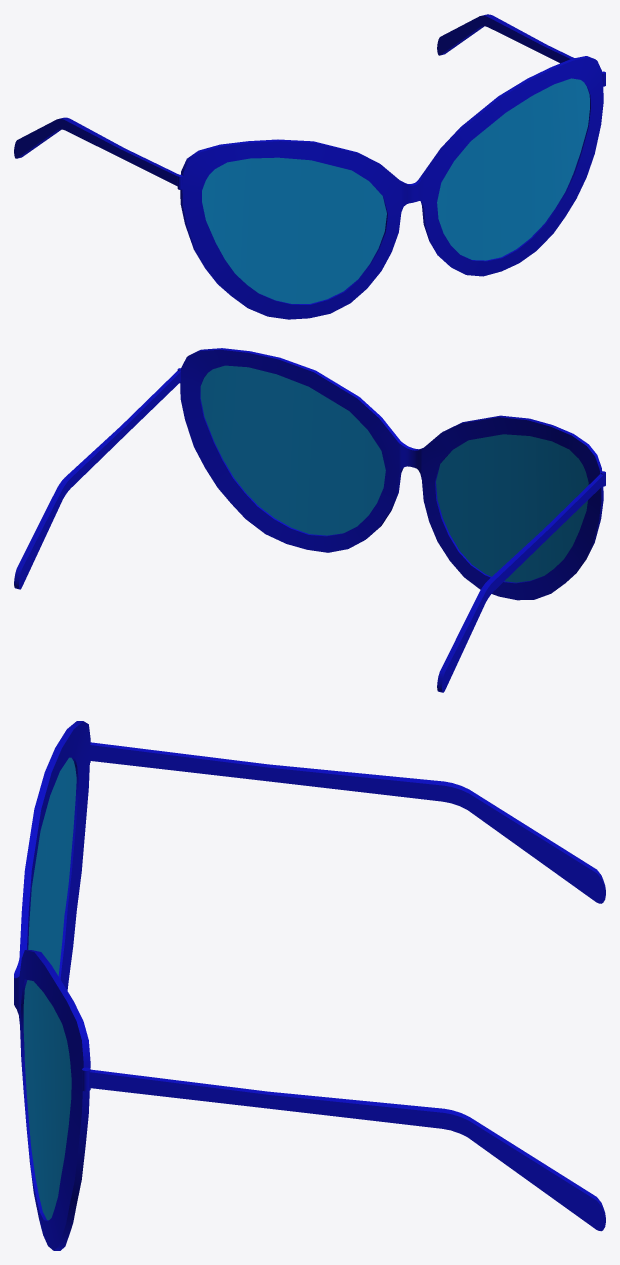
Rendered from glasses17.001.obj.
3 renders of one model, top to bottom at view 1: azimuth 30°, elevation 25°; view 2: azimuth 150°, elevation 25°; view 3: azimuth 270°, elevation 25°, orthographic. The views are drawn at different scales.
Visible parts, largest first — view 1: glasses17.001_glasses17.001_Glass.001, glasses17.001_glasses17.001_Material.027; view 2: glasses17.001_glasses17.001_Glass.001, glasses17.001_glasses17.001_Material.027; view 3: glasses17.001_glasses17.001_Material.027, glasses17.001_glasses17.001_Glass.001.
Boxes of the visible parts, x1,y1,x2,y2 form: glasses17.001_glasses17.001_Glass.001: (202, 78, 589, 303); glasses17.001_glasses17.001_Material.027: (14, 14, 605, 319); glasses17.001_glasses17.001_Glass.001: (200, 365, 588, 582); glasses17.001_glasses17.001_Material.027: (14, 348, 605, 692); glasses17.001_glasses17.001_Material.027: (14, 721, 605, 1250); glasses17.001_glasses17.001_Glass.001: (23, 757, 76, 1220).
Bounding box in the file's own units: 2.15 × 0.8921 × 1.62.
